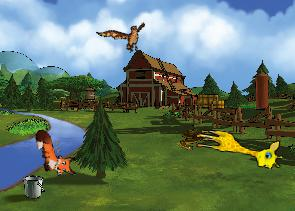eagle: (96, 9, 154, 63)
fox: (32, 123, 79, 182)
giraffe: (192, 127, 285, 171)
